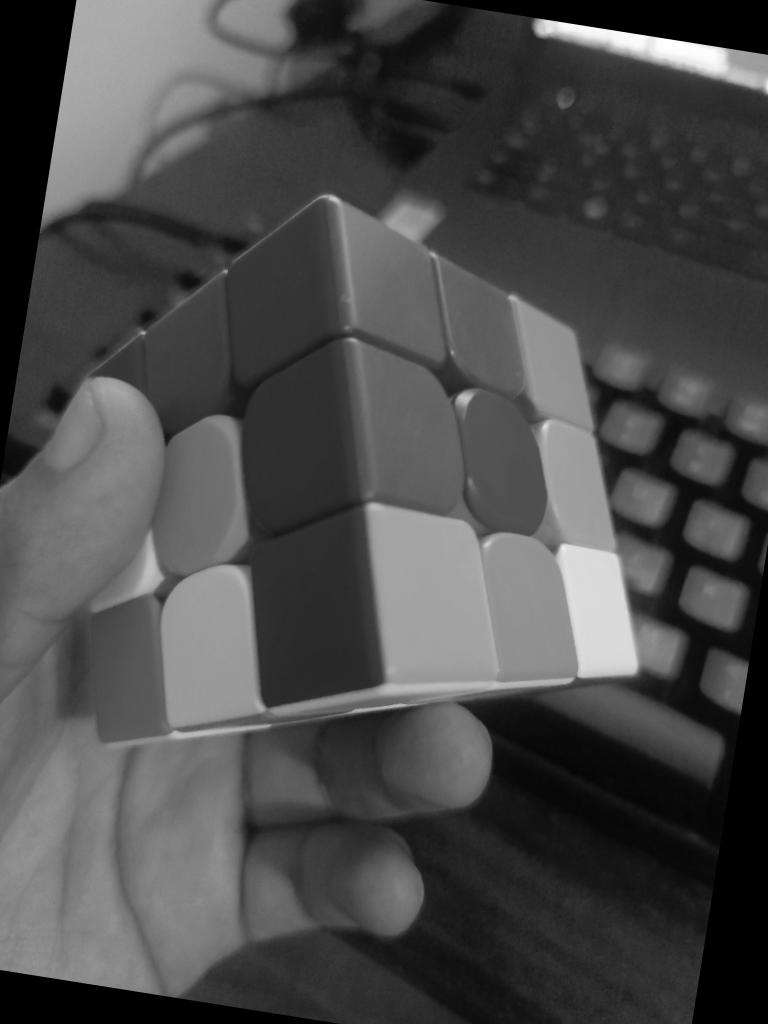rubik: (20, 157, 706, 826)
